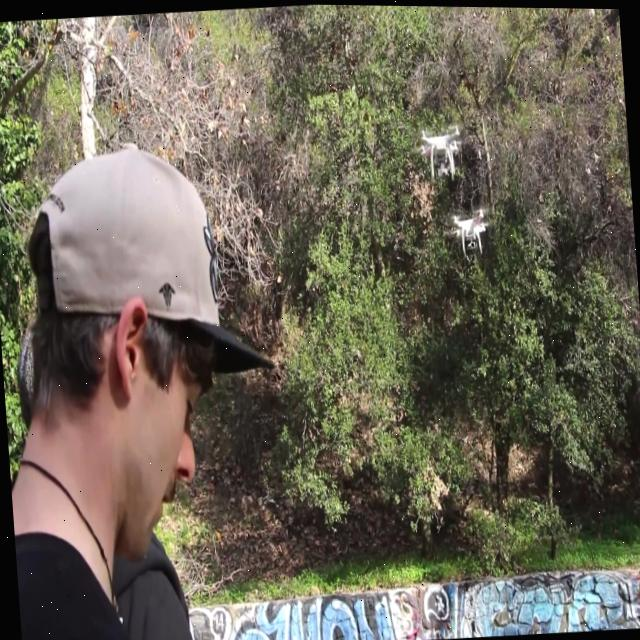drone: (414, 115, 467, 183), (448, 201, 493, 254)
